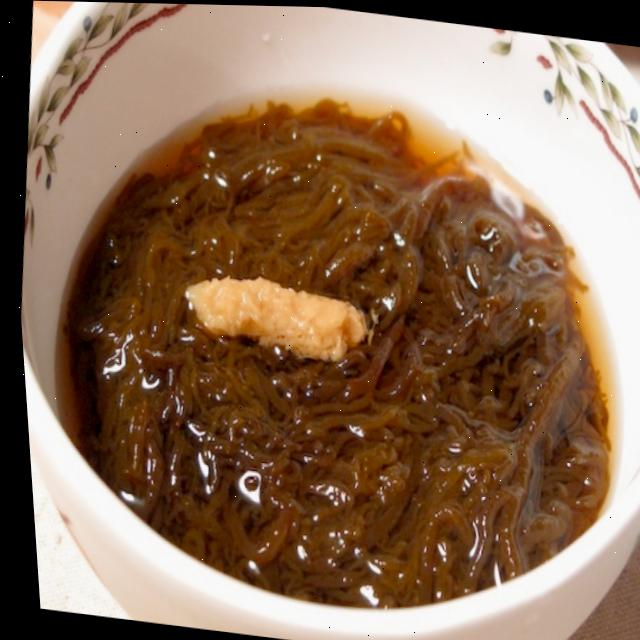蔬菜料理: (7, 10, 640, 629)
